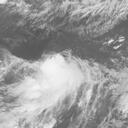cyclone: (39, 56, 91, 102)
